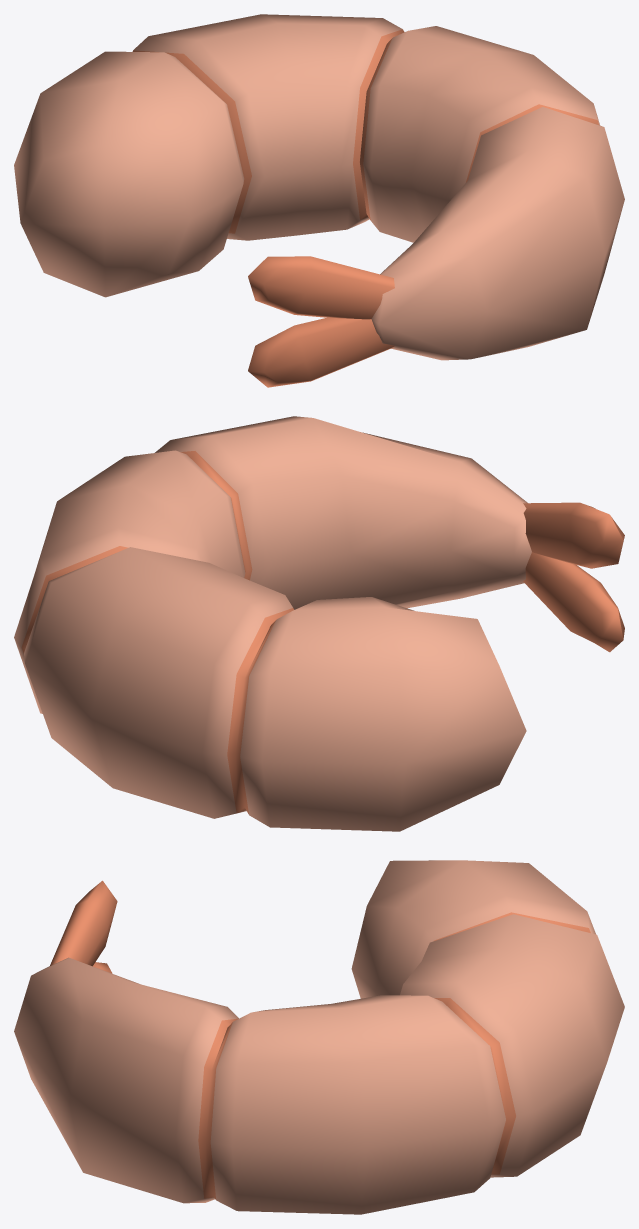
The model's file is Shrimp_1_Peeled_1.fbx.
The picture shows the model from 3 angles, top to bottom: view 1: azimuth 30°, elevation 25°; view 2: azimuth 150°, elevation 25°; view 3: azimuth 270°, elevation 25°; orthographic projection. The views are drawn at different scales.
Visible parts, largest first — view 1: Shrimp_1_Peeled_1; view 2: Shrimp_1_Peeled_1; view 3: Shrimp_1_Peeled_1.
Boxes of the visible parts, x1,y1,x2,y2 form: Shrimp_1_Peeled_1: [14, 14, 624, 387]; Shrimp_1_Peeled_1: [14, 416, 624, 831]; Shrimp_1_Peeled_1: [14, 860, 624, 1214].
Bounding box in the file's own units: 10.18 × 3.95 × 10.79.
